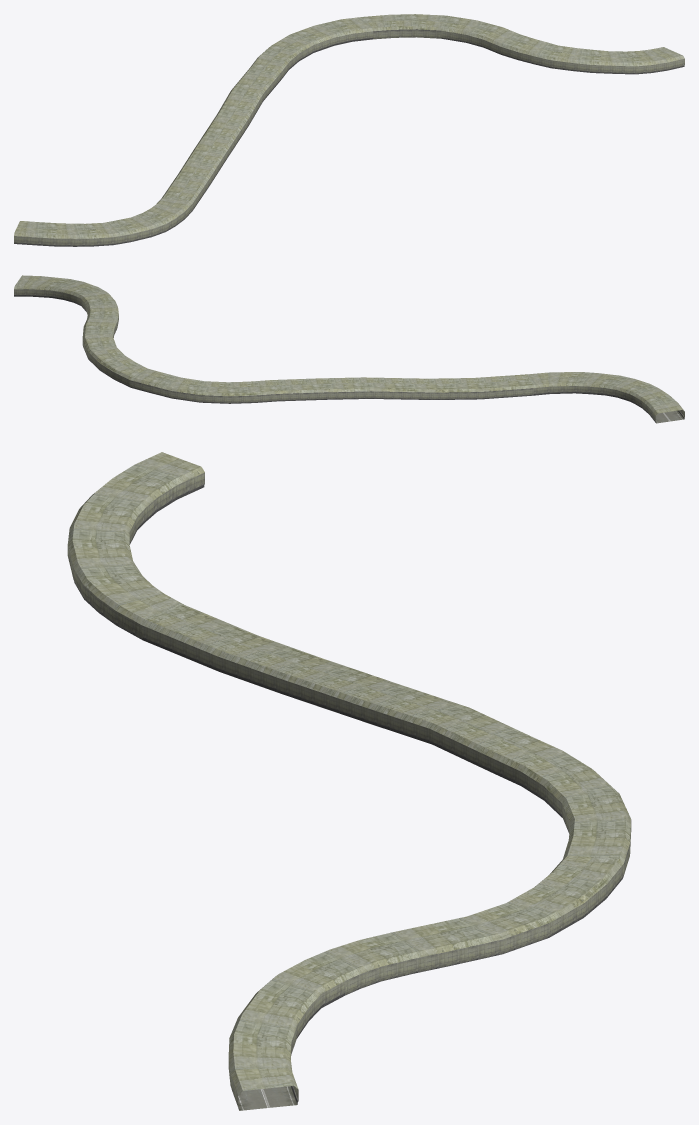
3 views of the same model, one above another, from view 1: azimuth 30°, elevation 25°; view 2: azimuth 150°, elevation 25°; view 3: azimuth 270°, elevation 25° (orthographic). The views are drawn at different scales.
Visible parts, largest first — view 1: SM_HK_00_04.001; view 2: SM_HK_00_04.001; view 3: SM_HK_00_04.001.
Part boxes in pixels (box(x1,y1,x2,y2)): SM_HK_00_04.001: box(14, 14, 684, 246); SM_HK_00_04.001: box(14, 275, 684, 423); SM_HK_00_04.001: box(67, 452, 631, 1110).
Size of the model in its own units: 46747 by 1913 by 17760.
